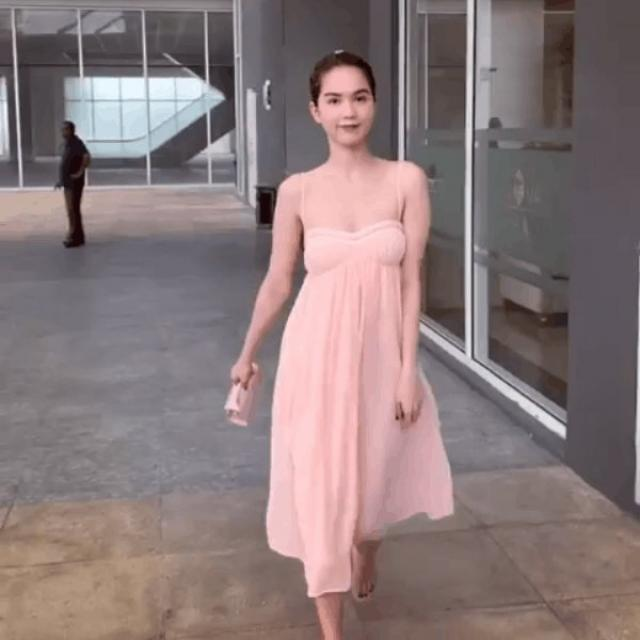clothes: (264, 165, 458, 593)
